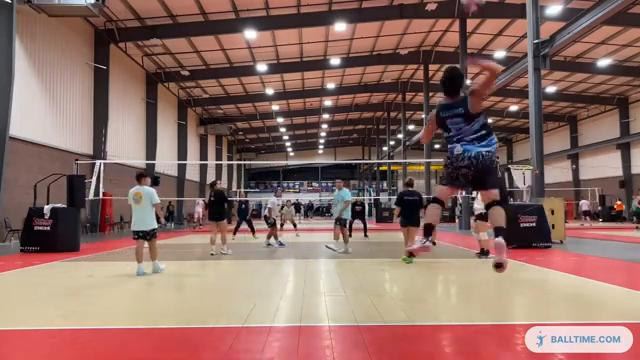Player: (128, 171, 164, 275), (394, 177, 423, 247), (207, 180, 232, 255), (325, 179, 350, 253), (263, 188, 285, 246), (232, 190, 256, 239), (472, 193, 489, 257), (348, 198, 367, 237), (280, 200, 299, 236)
Serve: (403, 55, 504, 276)
ball: (459, 0, 491, 8)
